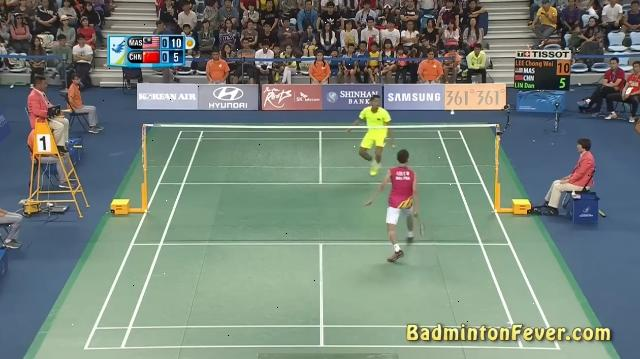Shuttlecock: (448, 106, 458, 115)
